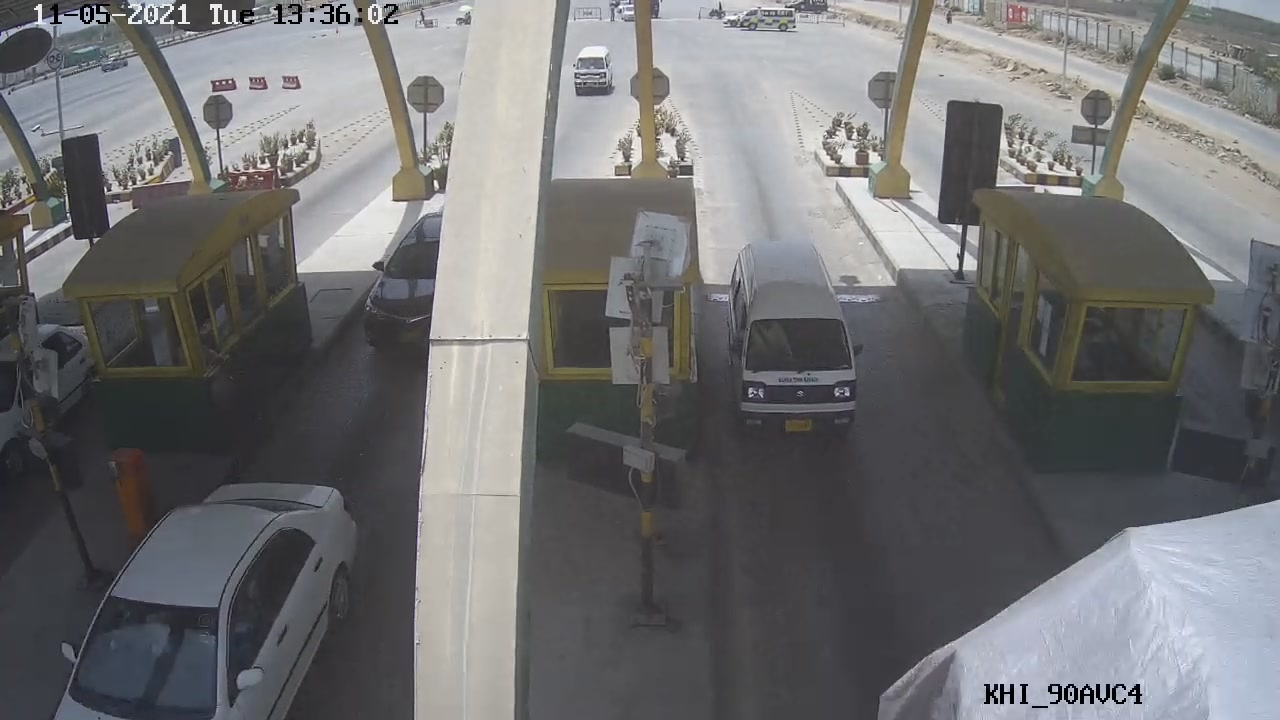F1: (723, 234, 865, 453)
